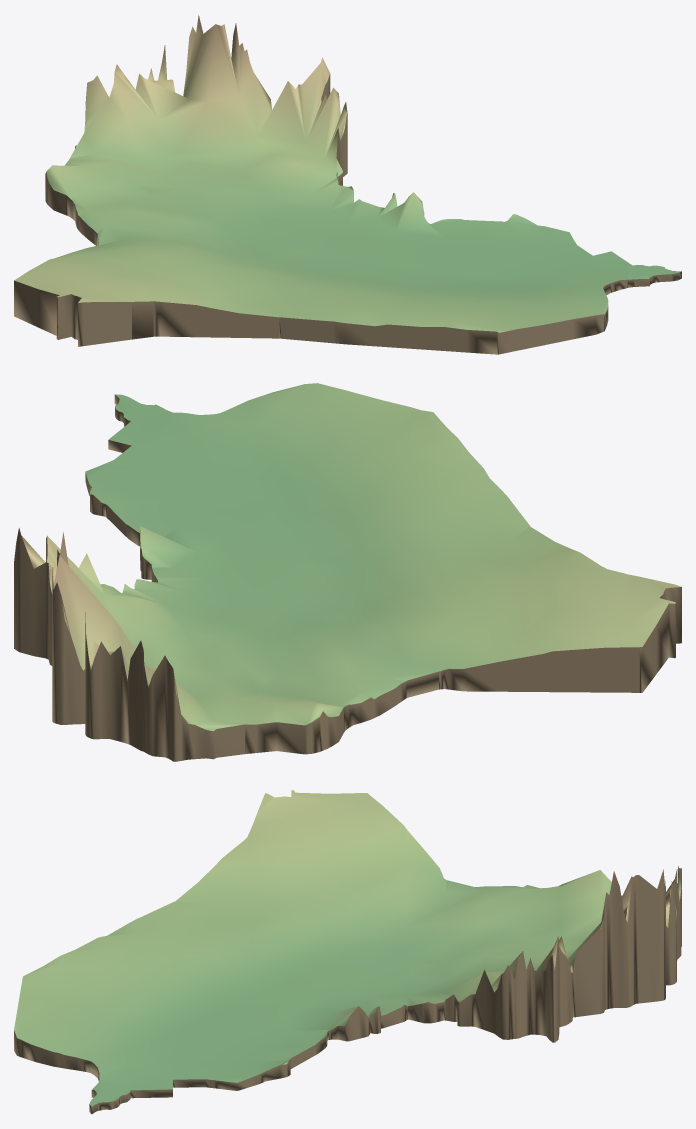
Rendered from IRQ.glb.
3 views of the same model, one above another, from view 1: azimuth 30°, elevation 25°; view 2: azimuth 150°, elevation 25°; view 3: azimuth 270°, elevation 25° (orthographic). The views are drawn at different scales.
Visible parts, largest first — view 1: IRQ; view 2: IRQ; view 3: IRQ.
Boxes of the visible parts, x1,y1,x2,y2 form: IRQ: (14, 15, 681, 354); IRQ: (14, 383, 681, 761); IRQ: (14, 790, 681, 1114).
Bounding box in the file's own units: 1.49 × 0.338 × 1.49.
